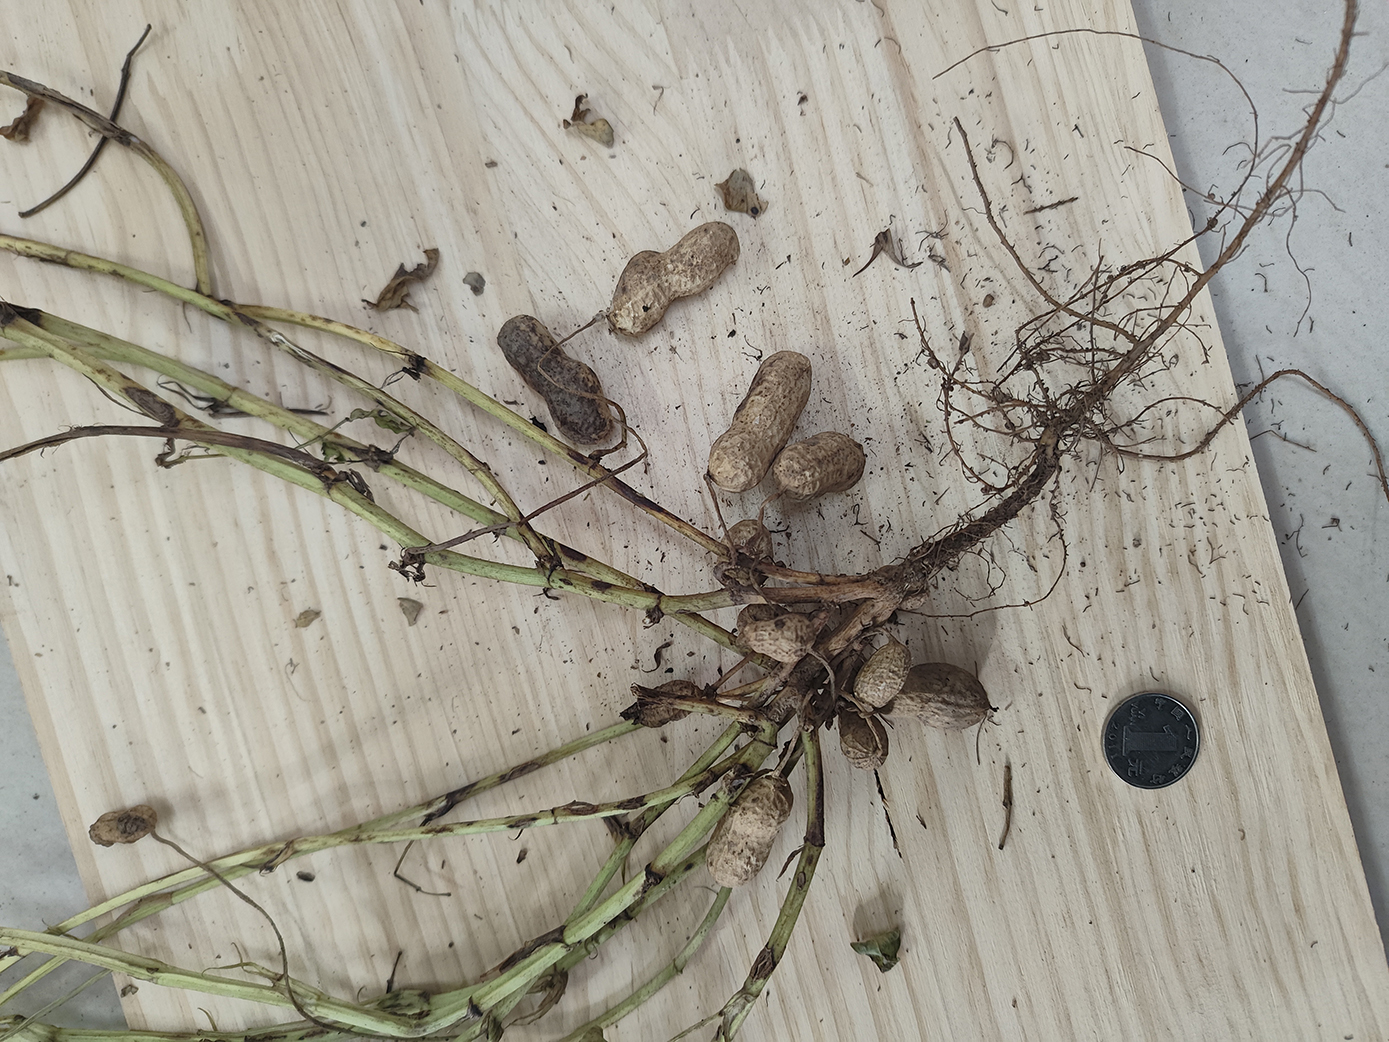h: (610, 221, 740, 334), (710, 351, 812, 491), (704, 769, 792, 888), (774, 433, 866, 499), (908, 664, 991, 730), (737, 614, 824, 664), (711, 519, 773, 590), (854, 642, 911, 713), (840, 703, 889, 769)
l: (498, 316, 614, 445)
